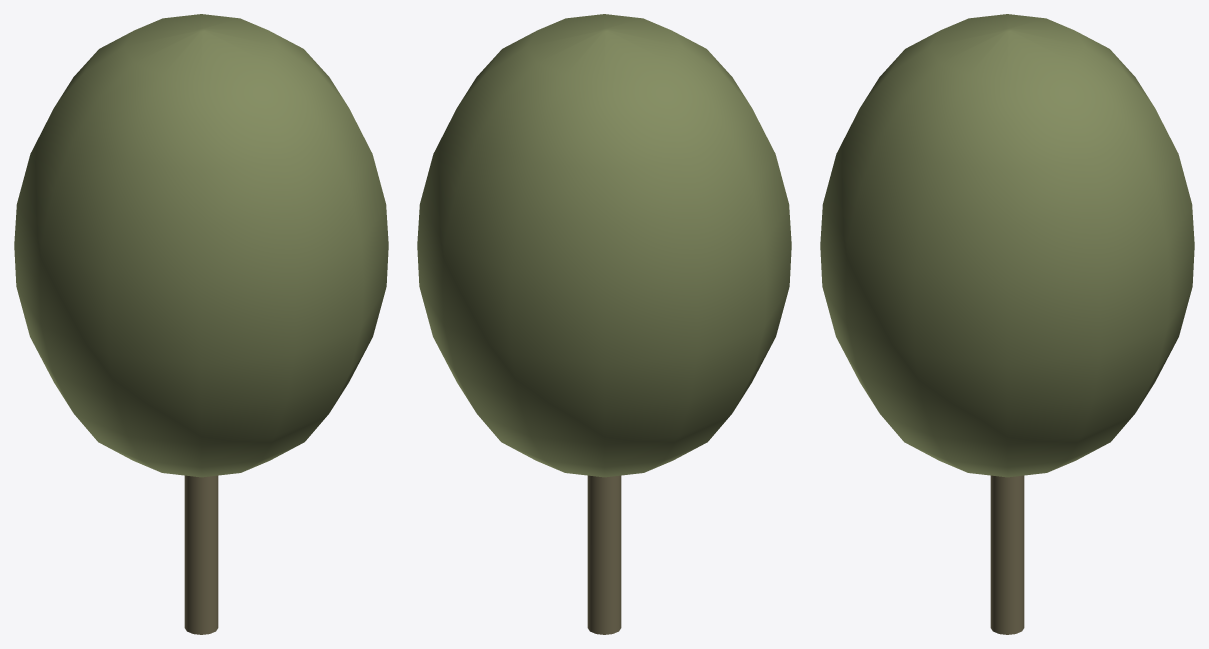
Rendered from Blue_Gum_Eucalyptus_Analytical_0.obj.
3 renders of one model, left to right at view 1: azimuth 30°, elevation 25°; view 2: azimuth 150°, elevation 25°; view 3: azimuth 270°, elevation 25°, orthographic.
Visible parts, largest first — view 1: AnalyticalCrown, AnalyticalTrunk; view 2: AnalyticalCrown, AnalyticalTrunk; view 3: AnalyticalCrown, AnalyticalTrunk.
Boxes of the visible parts, x1=… form: AnalyticalCrown: x1=14, y1=14, x2=388, y2=477; AnalyticalTrunk: x1=184, y1=475, x2=218, y2=634; AnalyticalCrown: x1=417, y1=14, x2=791, y2=477; AnalyticalTrunk: x1=587, y1=475, x2=621, y2=634; AnalyticalCrown: x1=820, y1=14, x2=1194, y2=477; AnalyticalTrunk: x1=990, y1=475, x2=1024, y2=634.
Size of the model in its own units: 14.2 by 25 by 14.2.
